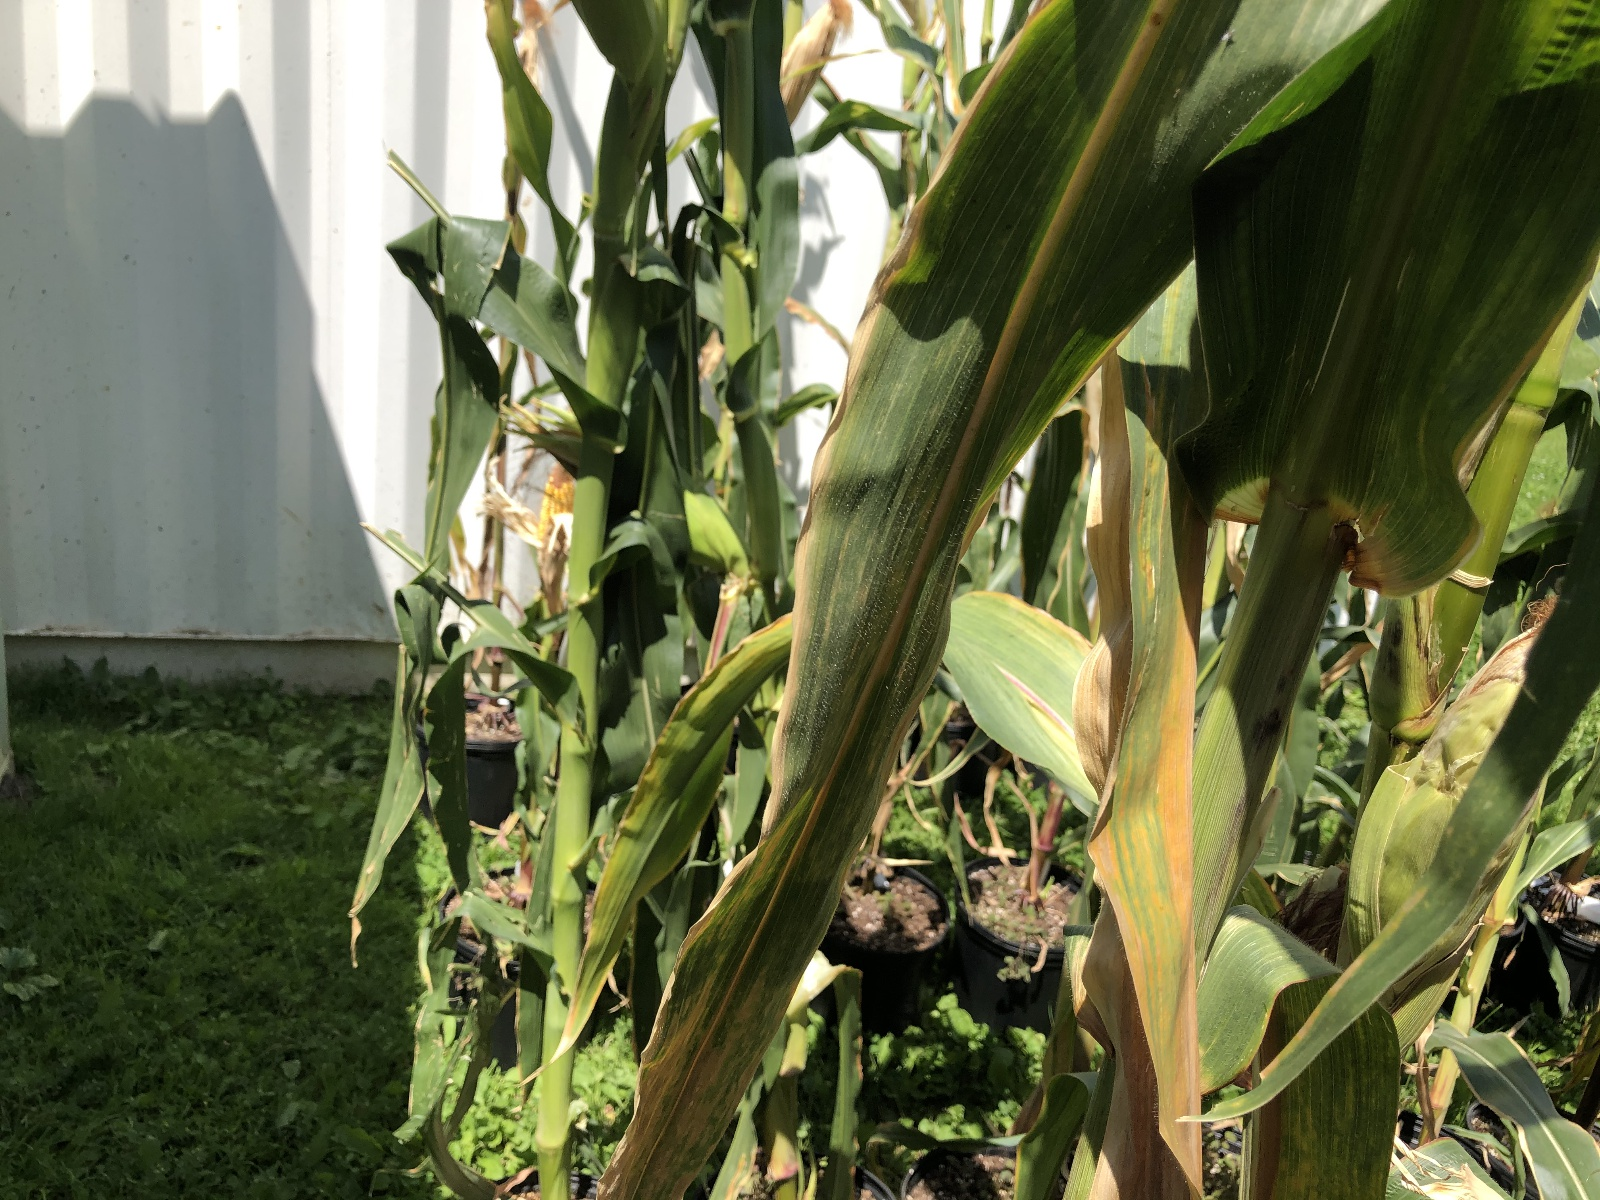ear: (1327, 589, 1584, 954), (767, 3, 855, 125), (529, 455, 585, 623)
